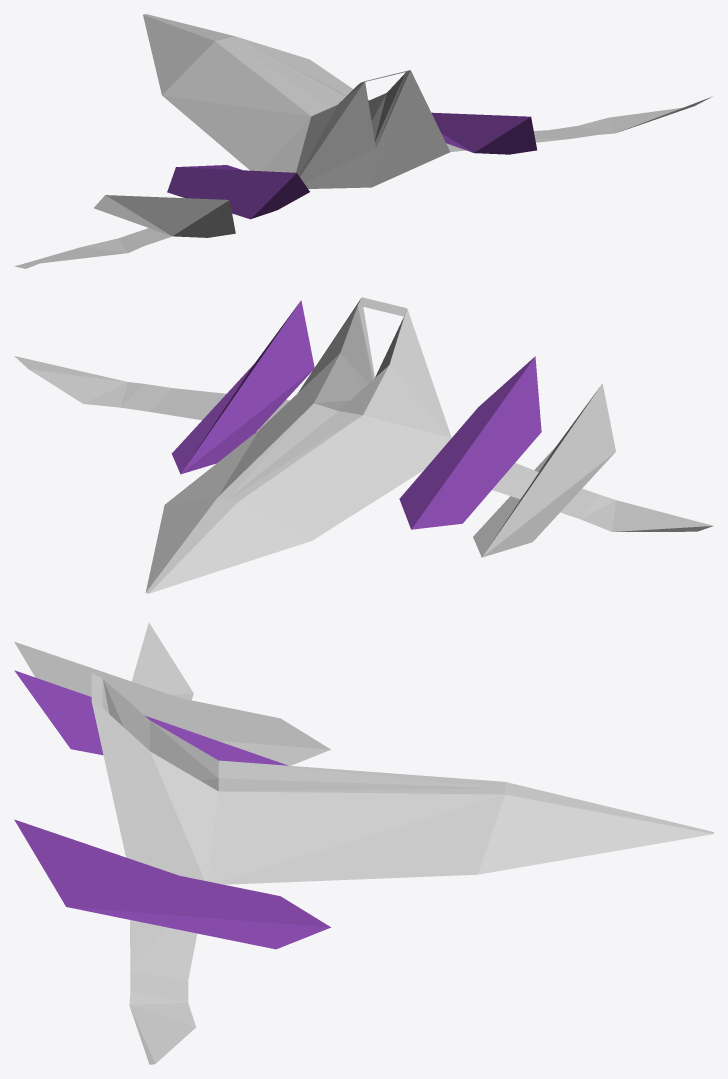
Rendered from starfox.fbx.
3 views of the same model, one above another, from view 1: azimuth 30°, elevation 25°; view 2: azimuth 150°, elevation 25°; view 3: azimuth 270°, elevation 25° (orthographic). The views are drawn at different scales.
Visible parts, largest first — view 1: pCube1, polySurface3, pCube3, pCube2; view 2: pCube1, polySurface3, pCube2, pCube3; view 3: pCube1, pCube2, pCube3, polySurface3.
Boxes of the visible parts, x1,y1,x2,y2 form: pCube1: (14, 14, 712, 268); polySurface3: (167, 165, 309, 219); pCube3: (94, 195, 235, 237); pCube2: (431, 112, 536, 154); pCube1: (14, 297, 713, 593); polySurface3: (399, 356, 541, 529); pCube2: (171, 300, 314, 474); pCube3: (473, 383, 615, 557); pCube1: (91, 622, 713, 1064); pCube2: (14, 819, 330, 949); pCube3: (14, 641, 330, 765); polySurface3: (14, 670, 287, 765).
Size of what is drawn, in the model's own units: 32.47 by 6.35 by 21.72.
